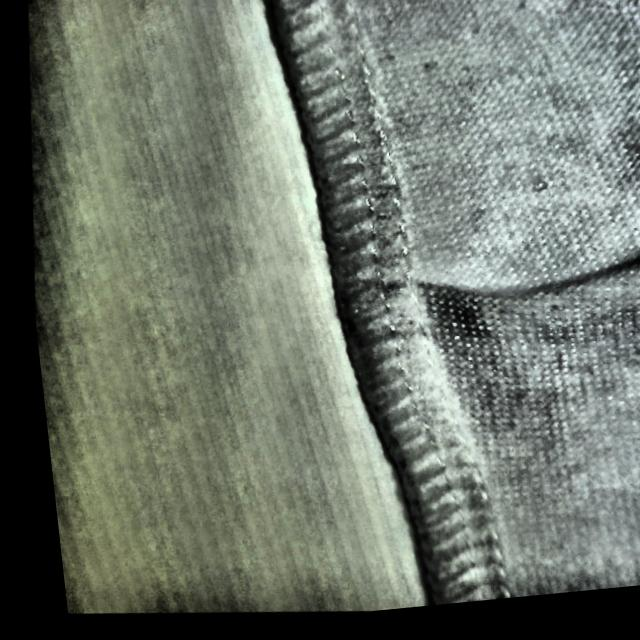seam: (309, 212, 640, 415)
